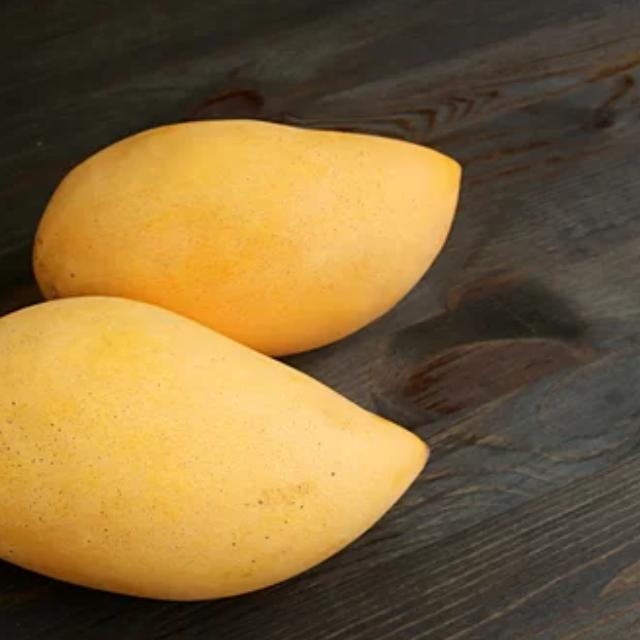mango: (0, 298, 432, 600), (30, 121, 465, 364)
